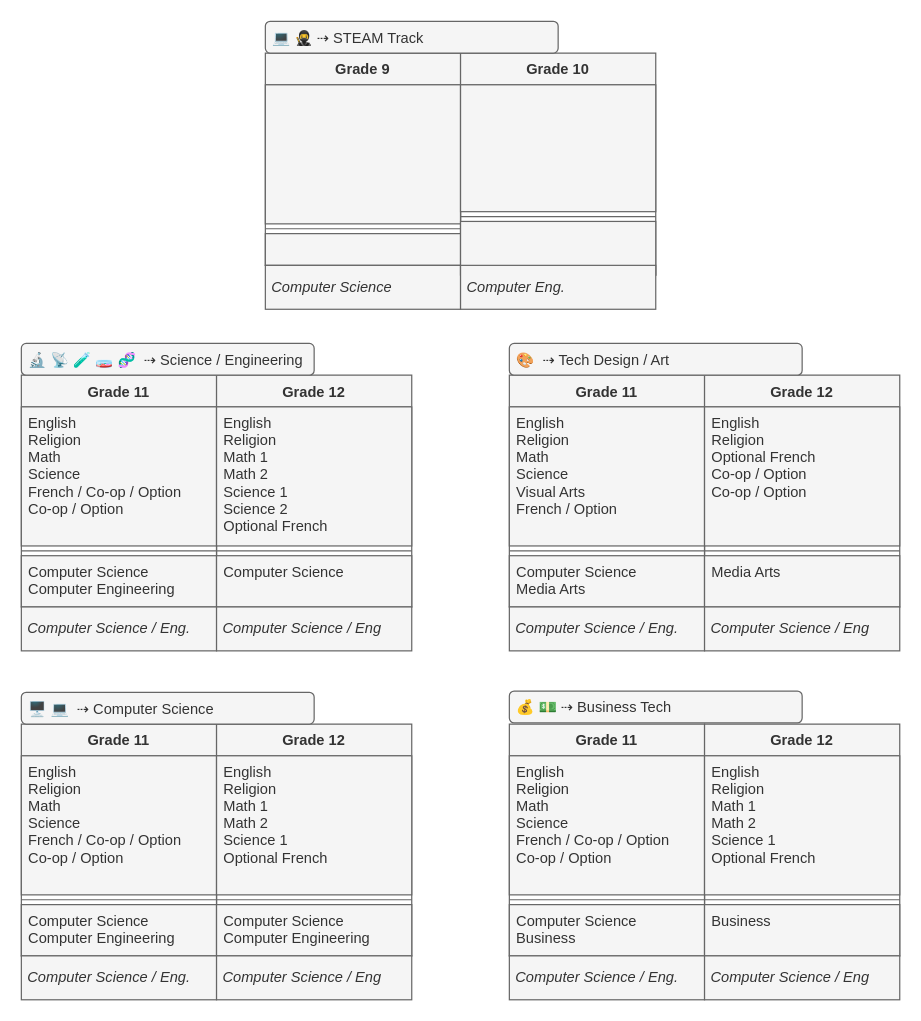
The diagram is 921 pixels wide and 1021 high, and some of its shapes have lost their labels. Here are the shapes that lost their labels. From the top down, the box of each, then its label:
(264, 84, 461, 224): English Religion Math Science PhysEd French Geography
(459, 84, 656, 212): English Religion Math Science History Civics / Careers
(264, 232, 461, 265): Option / Computer Science
(459, 220, 656, 275): Media Arts French / Computer Eng.
